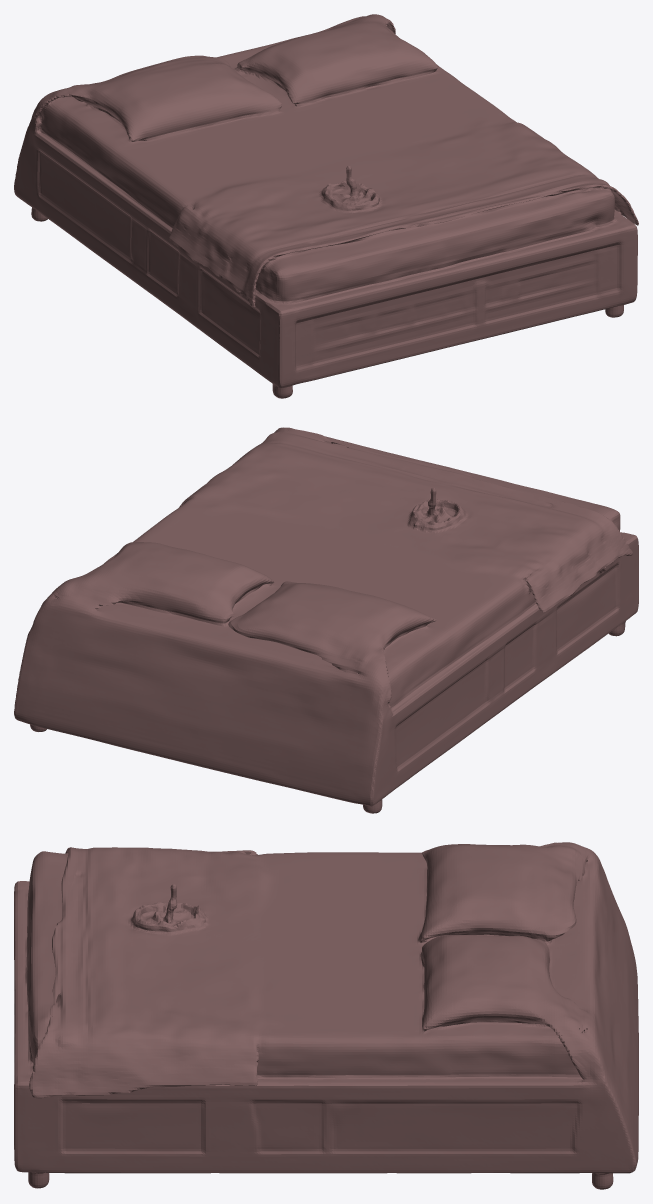
3 renders of one model, top to bottom at view 1: azimuth 30°, elevation 25°; view 2: azimuth 150°, elevation 25°; view 3: azimuth 270°, elevation 25°, orthographic. The views are drawn at different scales.
Visible parts, largest first — view 1: world; view 2: world; view 3: world.
Part boxes in pixels (box(x1,y1,x2,y2)): world: box(14, 14, 638, 398); world: box(14, 427, 638, 813); world: box(14, 842, 638, 1189).
Size of the model in its own units: 1.59 by 0.6345 by 1.96.
